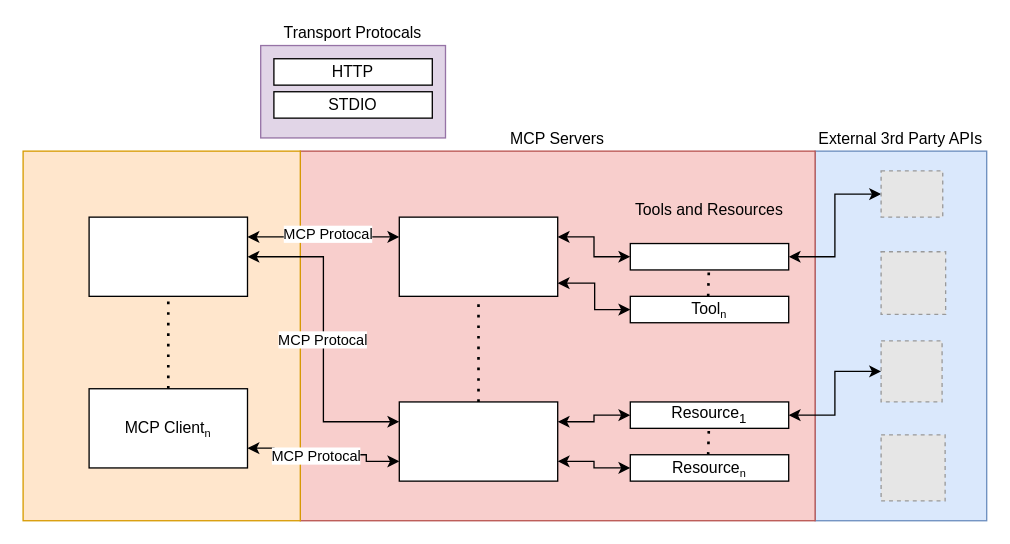
Some shapes in this 1010 by 544 pixel diagram are drawn without their labels. Grey dashed boxes stand in for pictures. Each missing label, with the box of its shape:
MCP 1: (398, 216, 558, 296)
MCP Client 1: (88, 216, 248, 296)
MCP Hosts: (22, 150, 300, 521)
MCP n: (398, 401, 558, 481)
Tool 1: (629, 242, 789, 270)
